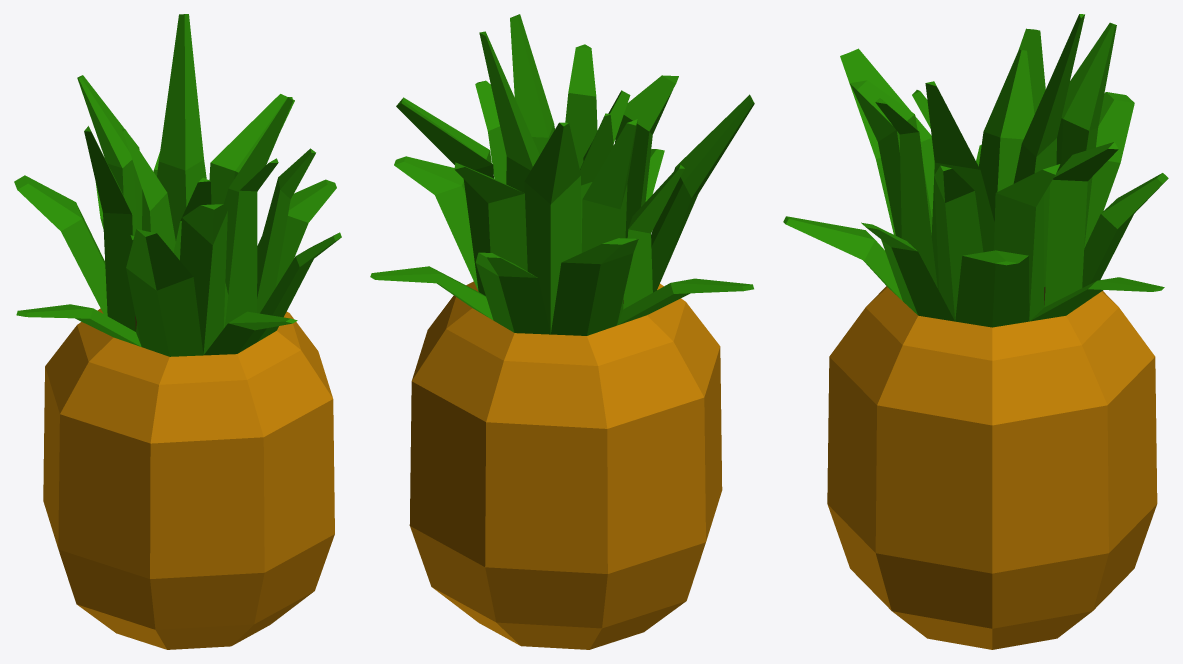
The model's file is pineapple01.gltf.
3 renders of one model, left to right at view 1: azimuth 30°, elevation 25°; view 2: azimuth 150°, elevation 25°; view 3: azimuth 270°, elevation 25°, orthographic. The views are drawn at different scales.
Parts seen in each view (by area): view 1: Cylinder; view 2: Cylinder; view 3: Cylinder.
Boxes of the visible parts, x1,y1,x2,y2 form: Cylinder: (14, 14, 341, 649); Cylinder: (370, 14, 754, 649); Cylinder: (783, 14, 1168, 649).
Size of the model in its own units: 0.1752 by 0.2889 by 0.1639.
Materials: 1 (1 with a texture image).
